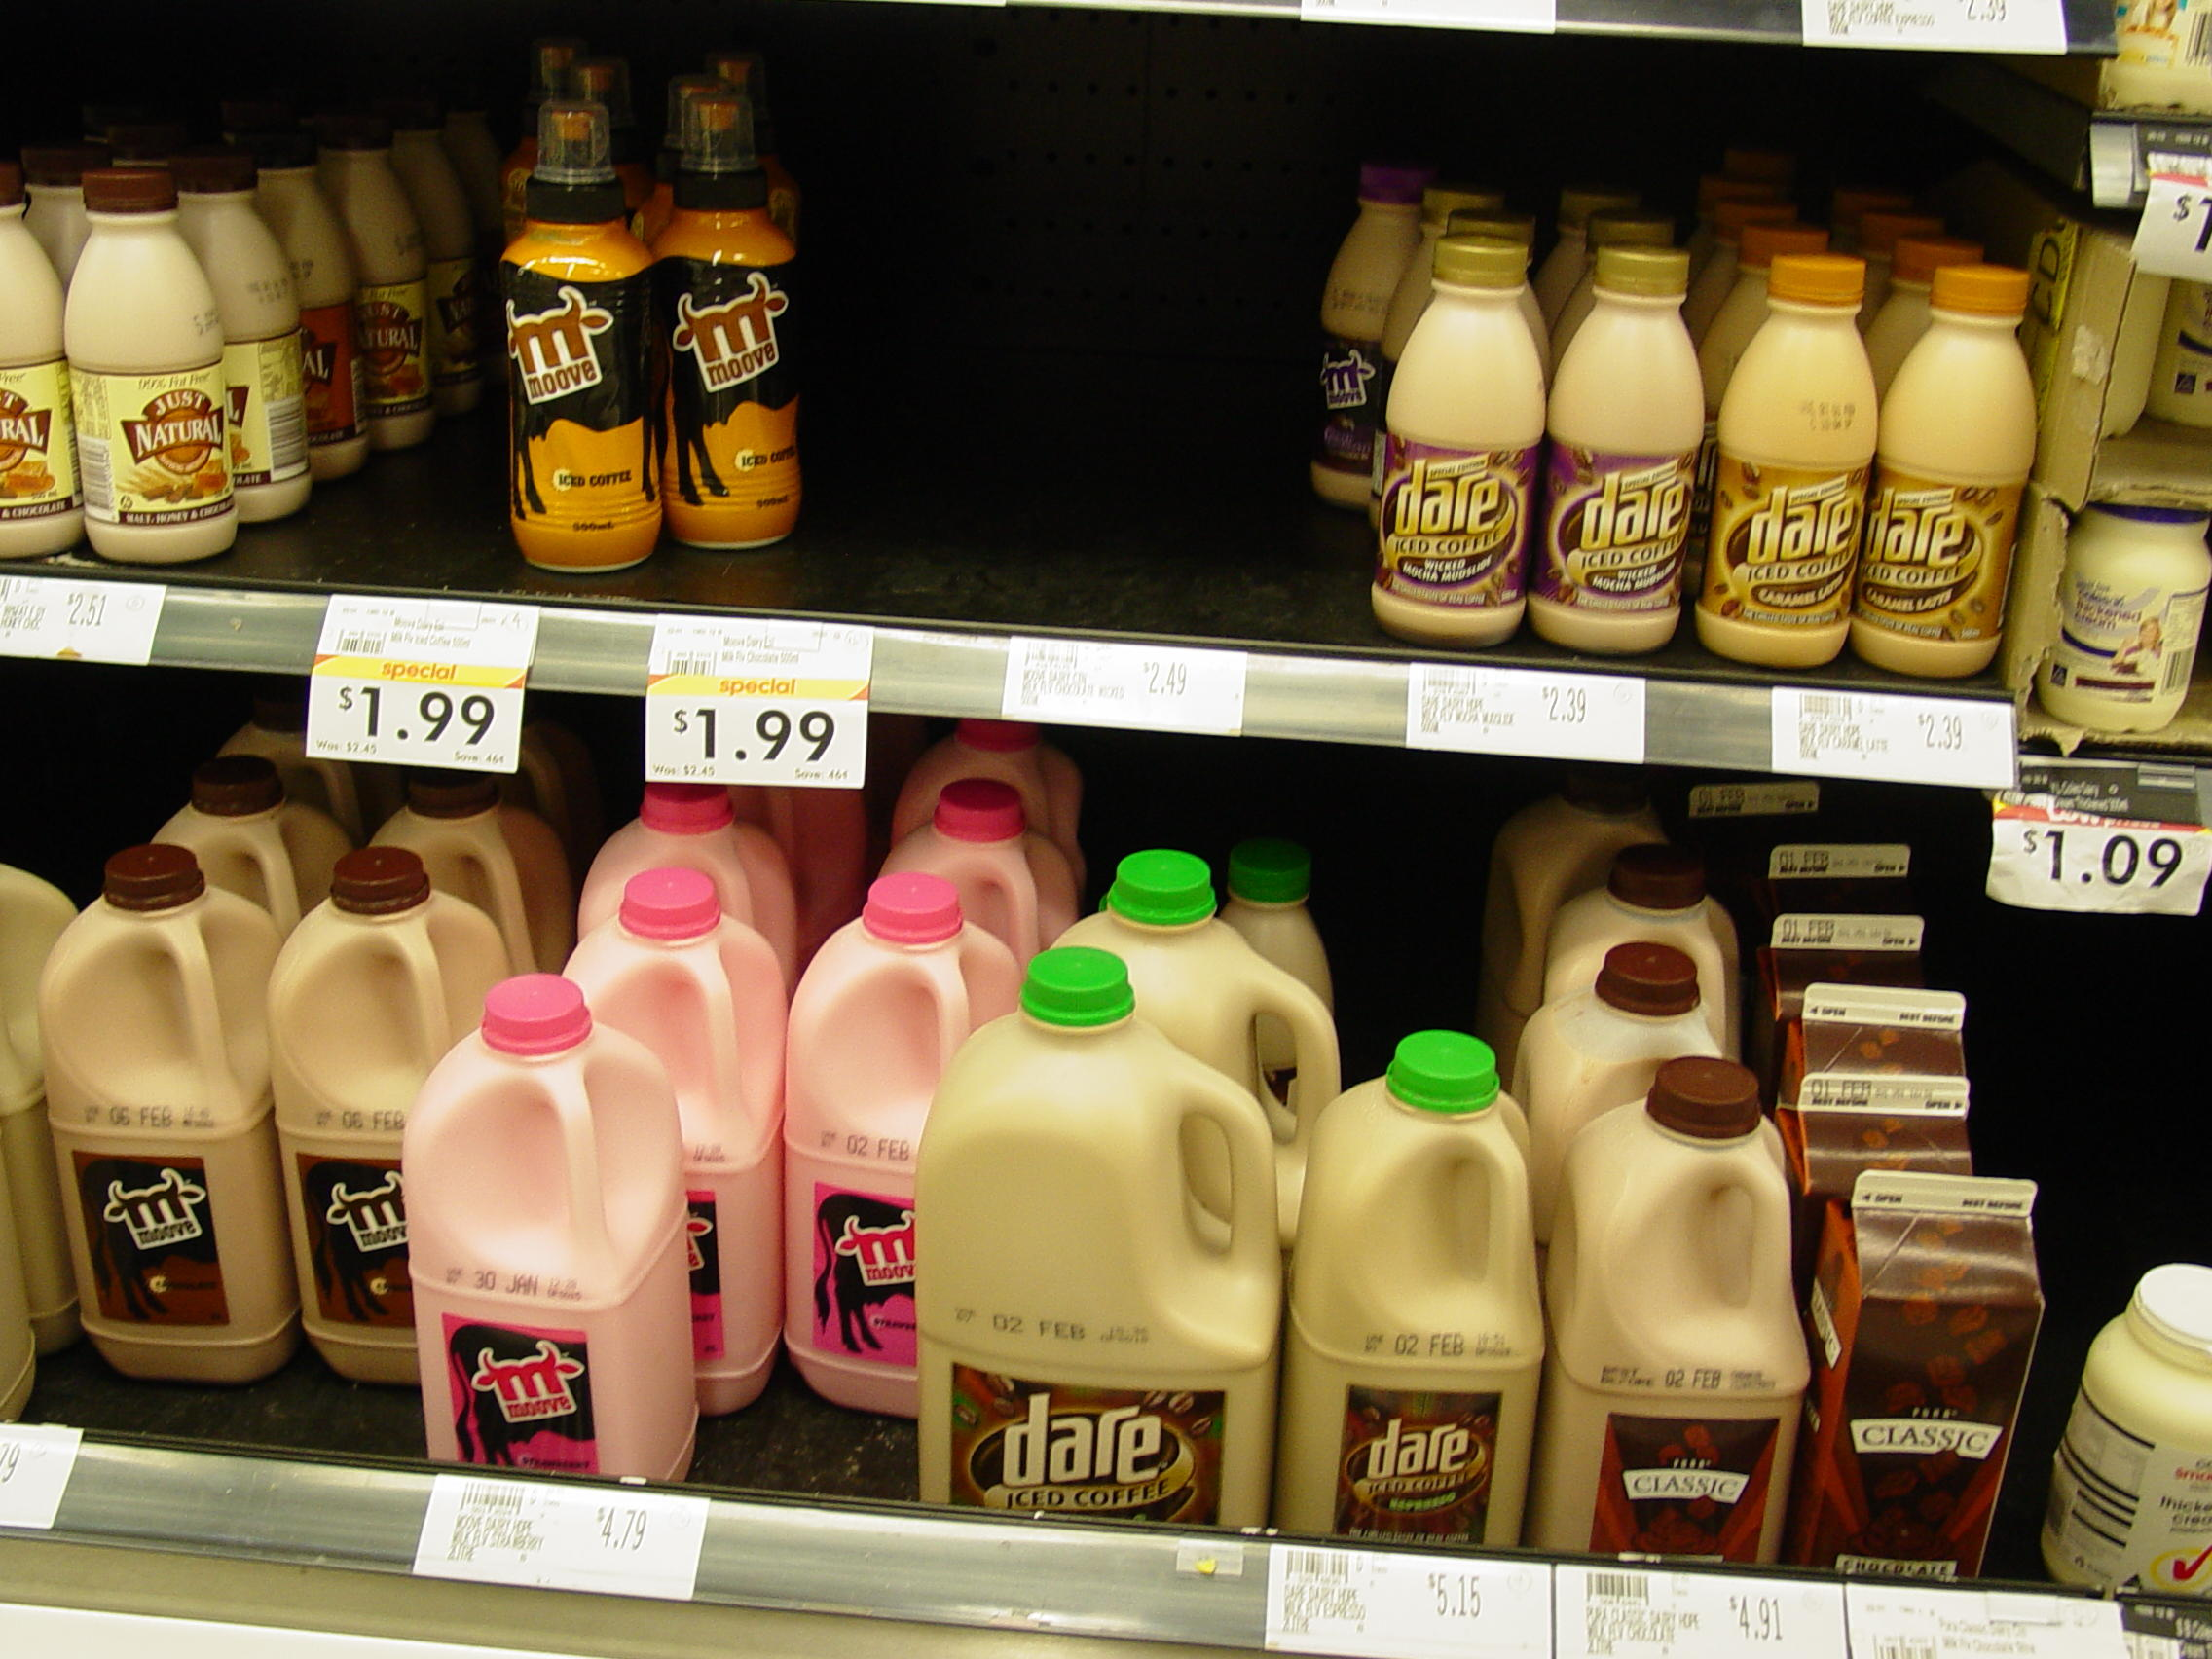Misplacement: (453, 871, 930, 1474), (421, 58, 770, 596)
Out-of-stock: (810, 52, 1287, 645)
